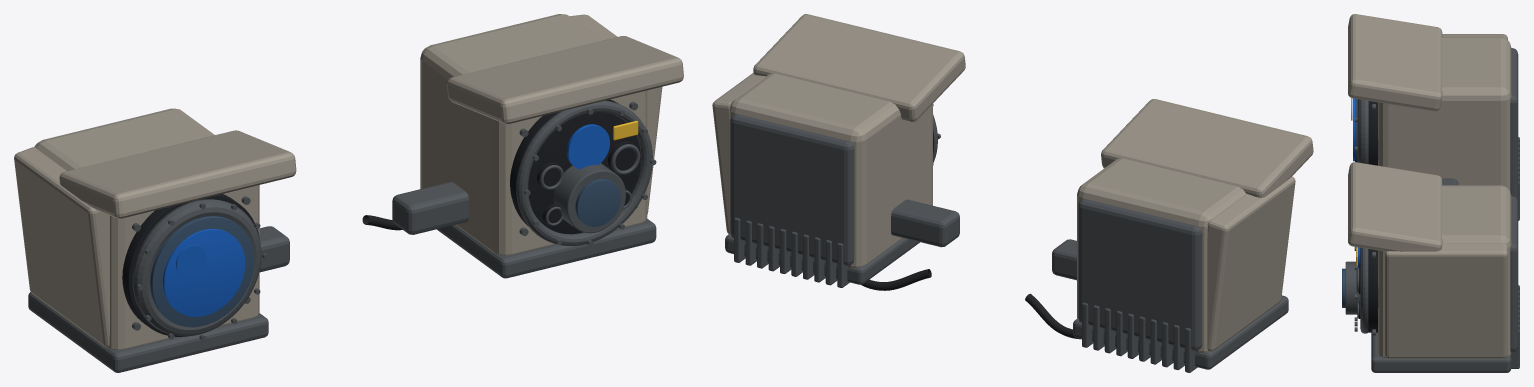
Rendered from SM_DLS_FixedDualSensor_Tilt.fbx.
The picture shows the model from 3 angles, left to right: view 1: azimuth 30°, elevation 25°; view 2: azimuth 150°, elevation 25°; view 3: azimuth 270°, elevation 25°; orthographic projection. The views are drawn at different scales.
Parts seen in each view (by area): view 1: SM_DLS_FixedDualSensor_Tilt; view 2: SM_DLS_FixedDualSensor_Tilt; view 3: SM_DLS_FixedDualSensor_Tilt.
Boxes of the visible parts, box(x1,y1,x2,y2) form: SM_DLS_FixedDualSensor_Tilt: box(14, 14, 683, 372); SM_DLS_FixedDualSensor_Tilt: box(712, 14, 1313, 372); SM_DLS_FixedDualSensor_Tilt: box(1342, 14, 1519, 372).
Size of the model in its own units: 6.09 by 2.08 by 1.99.
